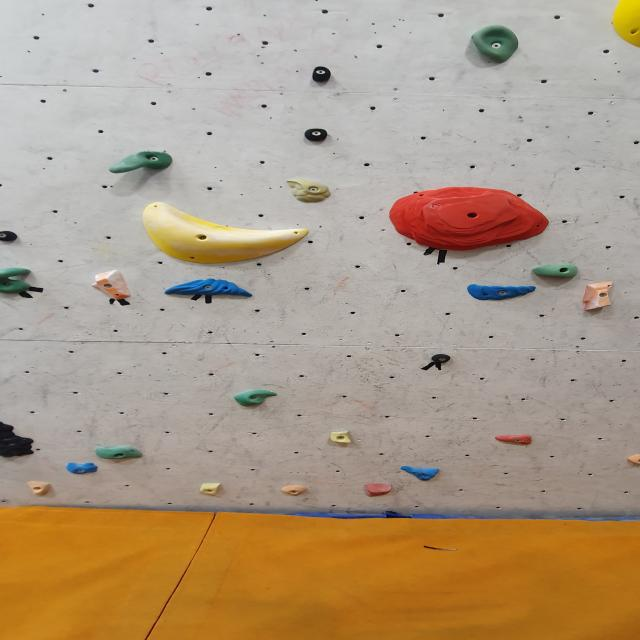Crimp: (386, 188, 550, 252), (161, 278, 260, 298), (285, 178, 335, 204), (464, 284, 541, 300), (231, 389, 280, 408), (400, 466, 442, 480), (491, 433, 535, 445), (328, 430, 361, 445), (23, 481, 51, 498), (66, 462, 102, 475), (364, 483, 395, 498), (279, 485, 309, 498), (200, 481, 223, 495), (625, 452, 640, 465)
Jug: (467, 23, 523, 64), (0, 415, 40, 464), (105, 151, 177, 176), (1, 268, 39, 298), (93, 446, 145, 463), (532, 264, 581, 281)
Pinch: (95, 269, 136, 303), (582, 281, 615, 314), (302, 129, 332, 145), (311, 66, 333, 82), (431, 353, 455, 367), (0, 231, 22, 244)
Sloper: (139, 202, 313, 266), (608, 0, 640, 50)
